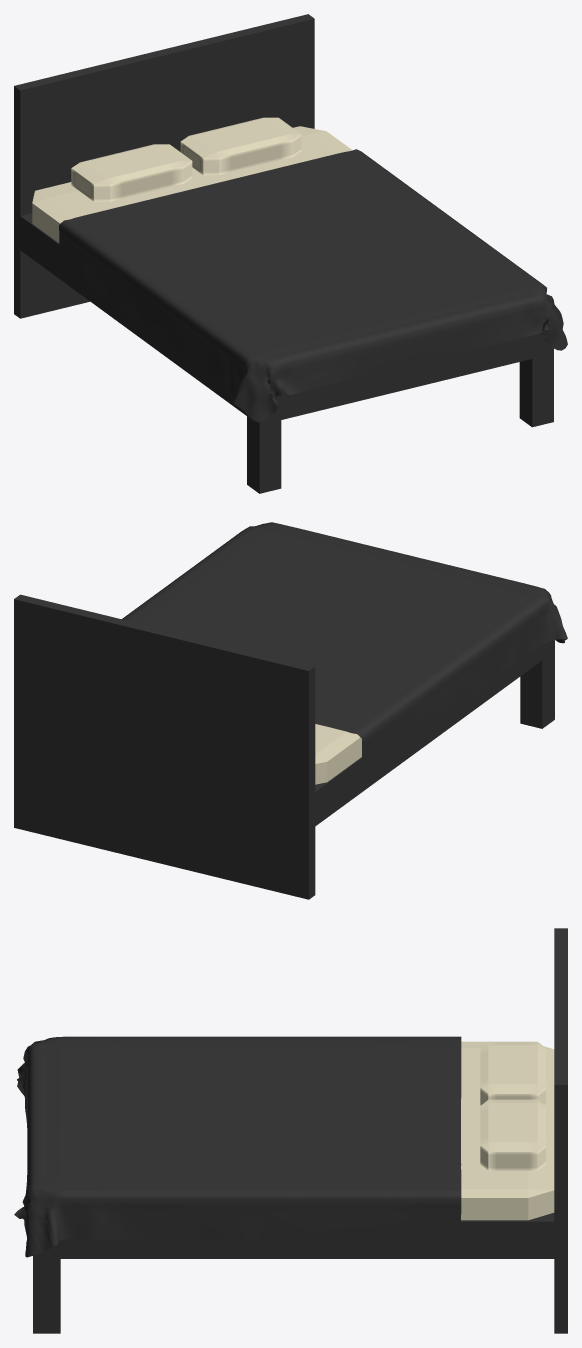
The model's file is Bed.fbx.
3 views of the same model, one above another, from view 1: azimuth 30°, elevation 25°; view 2: azimuth 150°, elevation 25°; view 3: azimuth 270°, elevation 25° (orthographic). The views are drawn at different scales.
Visible parts, largest first — view 1: Cube.003; view 2: Cube.003; view 3: Cube.003.
Boxes of the visible parts, x1,y1,x2,y2 form: Cube.003: (14,14,567,493); Cube.003: (14,522,567,899); Cube.003: (14,928,567,1333).
Bounding box in the file's own units: 306 × 200 × 404.
